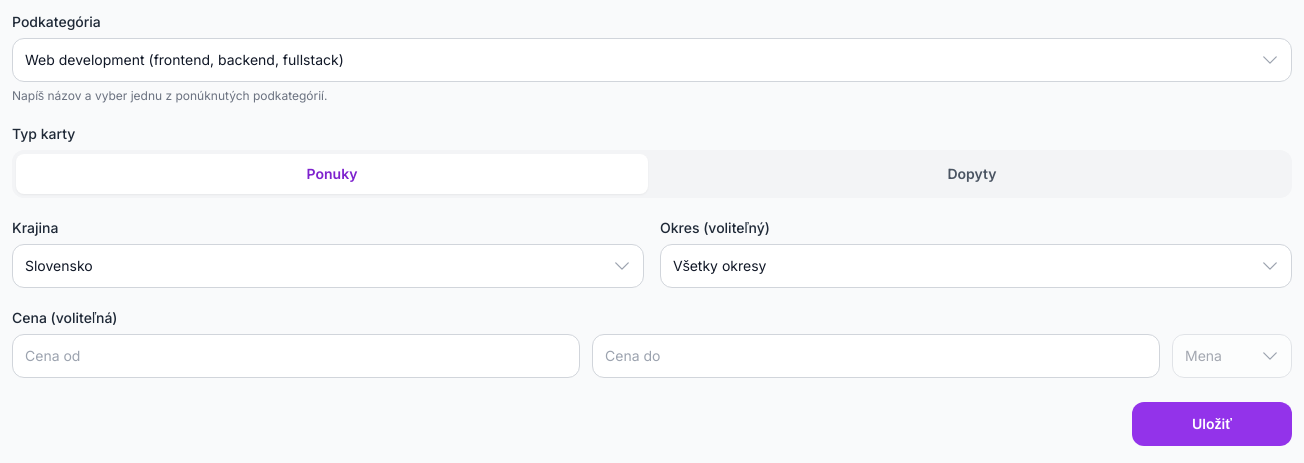
Test case: shared price controls (mobile=false) › clears a standalone zero only on blur of Cena od
The image size is (1304, 463).
Type "0,00" into the field labelled "Cena od" at (296, 356), box [12, 334, 580, 378]
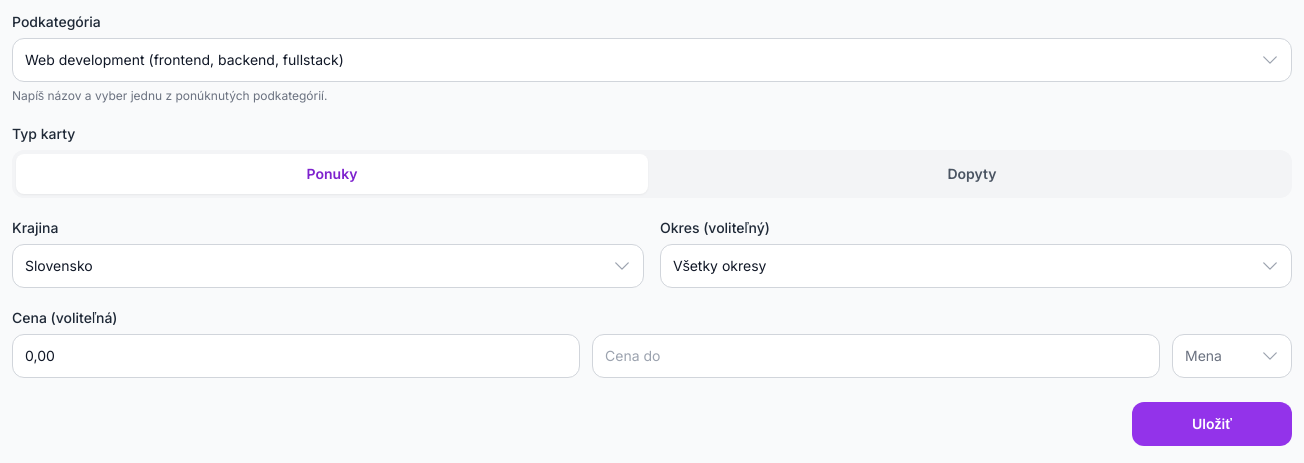
Leave the field named "Cena od", box [12, 334, 580, 378]
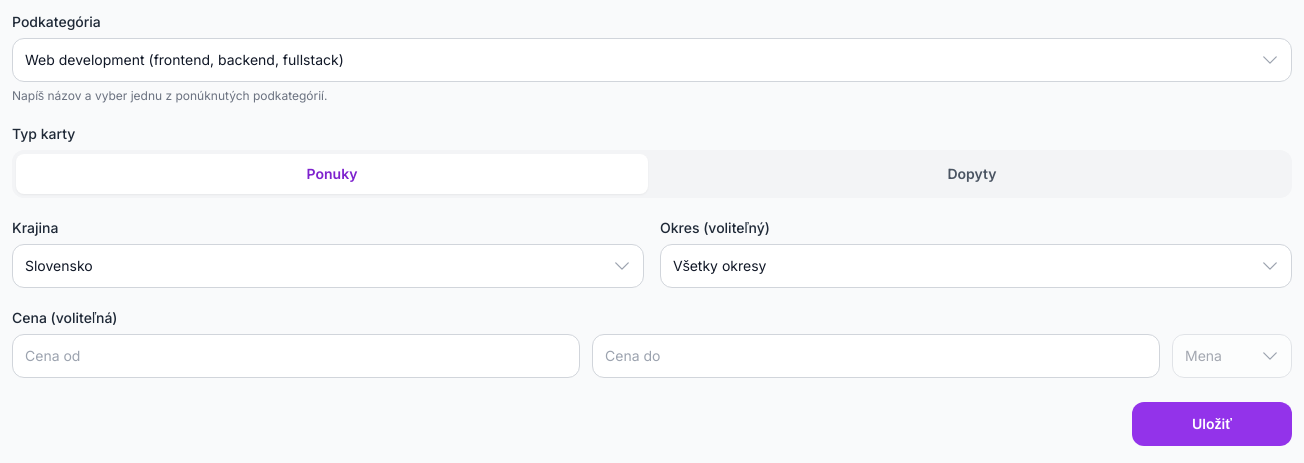
Expected: the dropdown labelled "Mena" is empty, [1172, 334, 1292, 378]
Result: the field labelled "Cena od" is empty at [12, 334, 580, 378]
Result: the dropdown labelled "Mena" is disabled at [1172, 334, 1292, 378]
